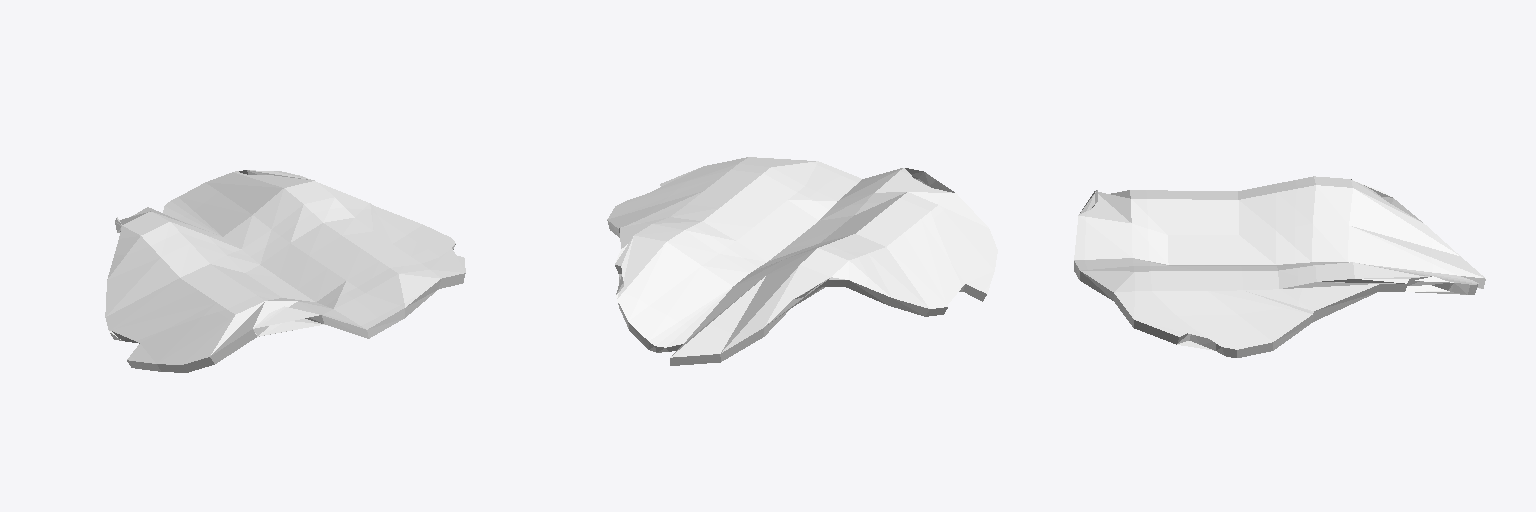
3 renders of one model, left to right at view 1: azimuth 30°, elevation 25°; view 2: azimuth 150°, elevation 25°; view 3: azimuth 270°, elevation 25°, orthographic.
Visible parts, largest first — view 1: BasicLeaf_CadmiumWhite; view 2: BasicLeaf_CadmiumWhite; view 3: BasicLeaf_CadmiumWhite.
Boxes of the visible parts, box(x1,y1,x2,y2) form: BasicLeaf_CadmiumWhite: box(105, 170, 465, 372); BasicLeaf_CadmiumWhite: box(607, 157, 997, 365); BasicLeaf_CadmiumWhite: box(1074, 176, 1485, 357).
Bounding box in the file's own units: 6.78 × 1.4 × 6.94.
1 materials, 1 textured.